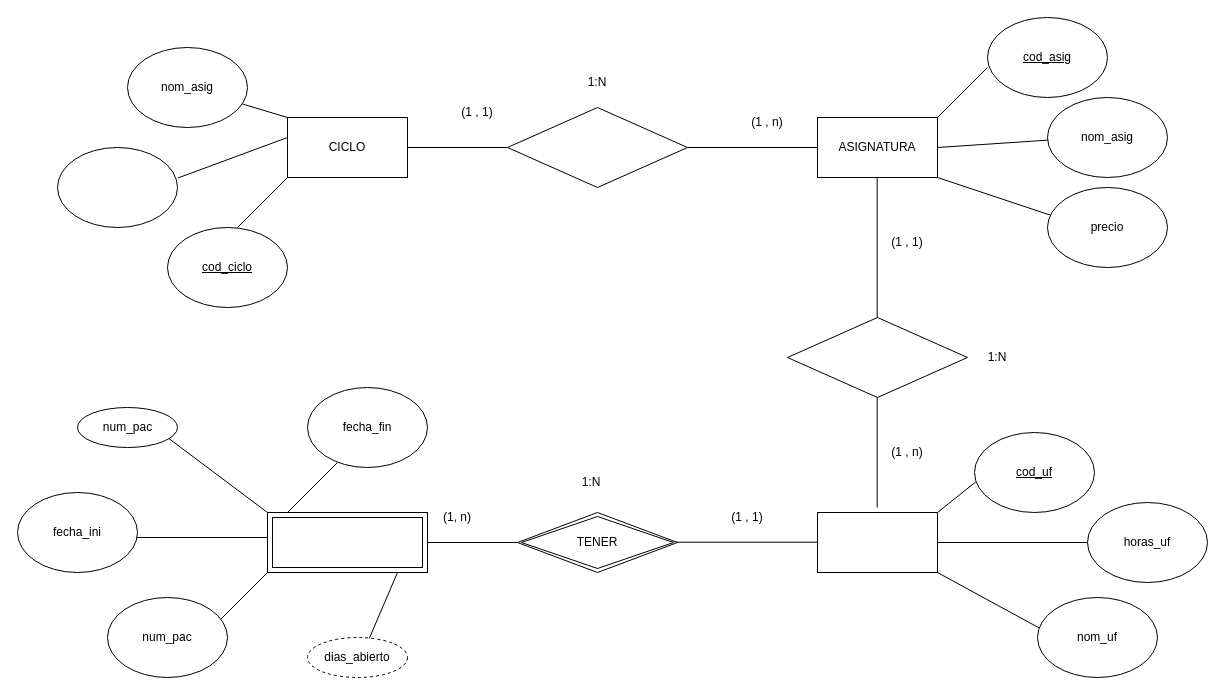
Some shapes in this 1225 by 695 pixel diagram are drawn without their labels. The shapes that lost their labels are listed below. From the top down, each one's centre as x and y in pixels, then its label:
At point (597, 147): "PERTENECER".
At point (117, 187): "abr_ciclo".
At point (877, 357): "COMPONER".
At point (347, 542): "PAC".
At point (877, 542): "UF".
